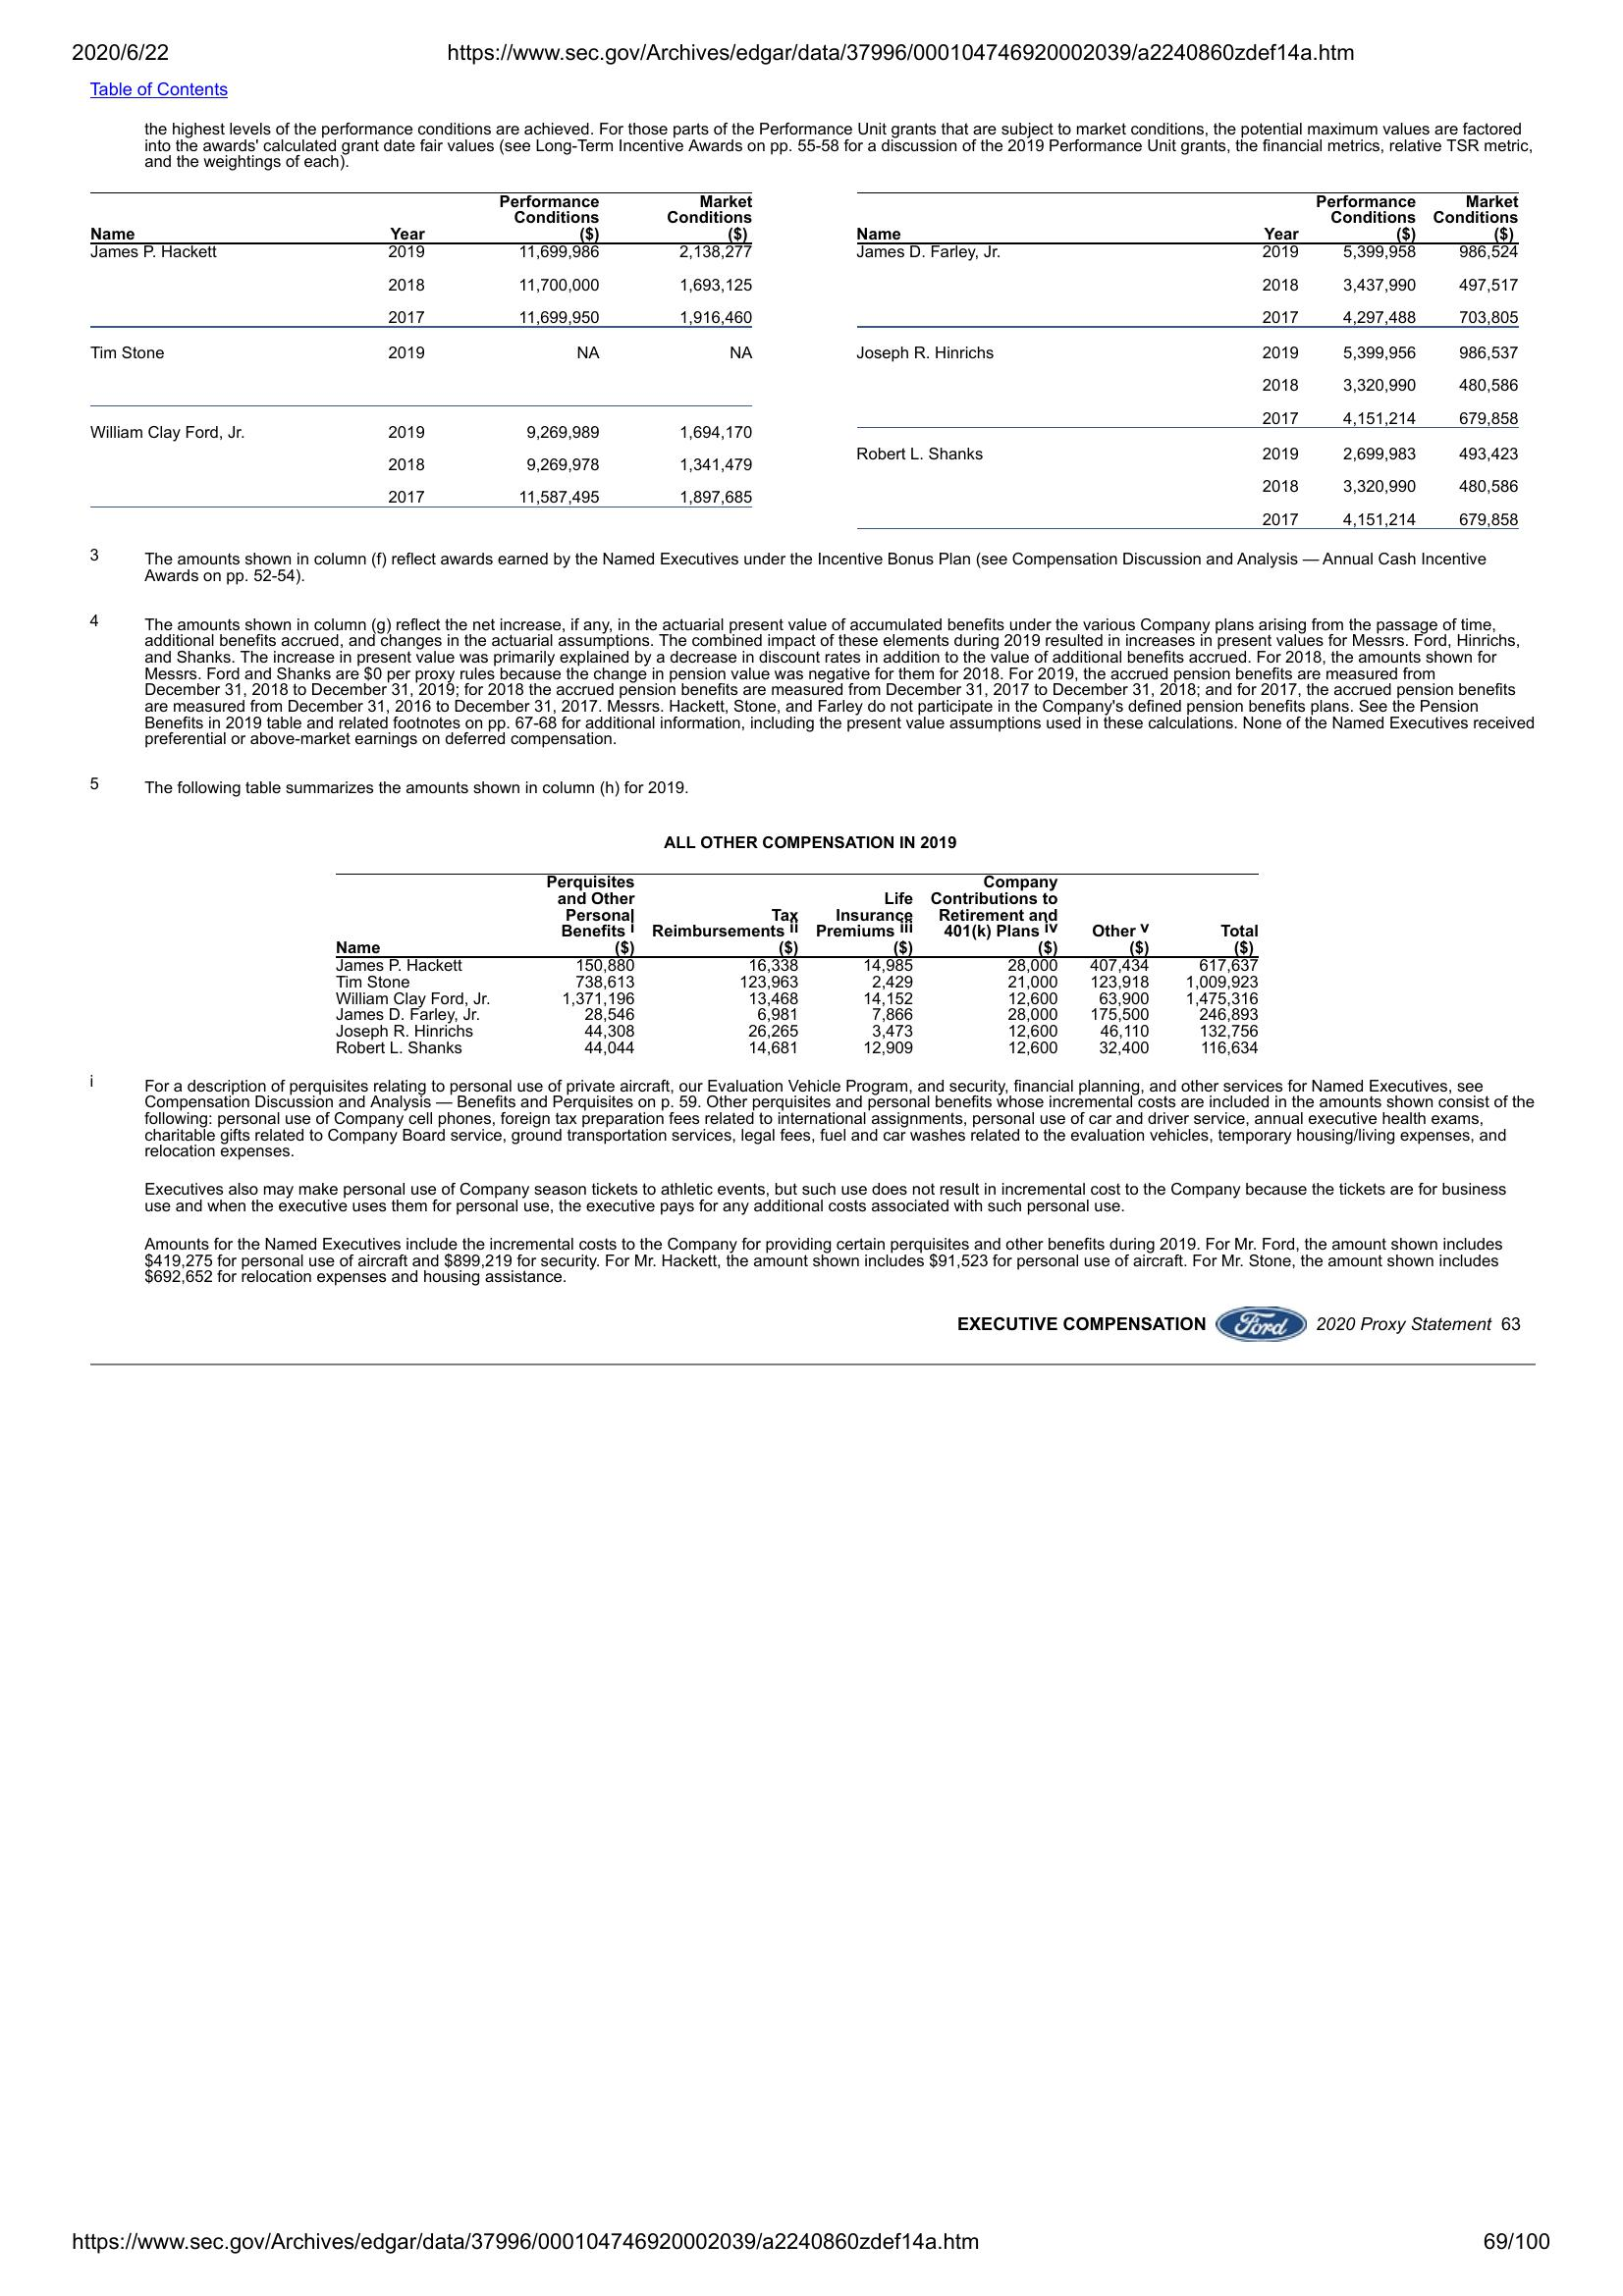table: (843, 190, 1530, 537), (83, 181, 764, 511), (327, 827, 1268, 1062)
